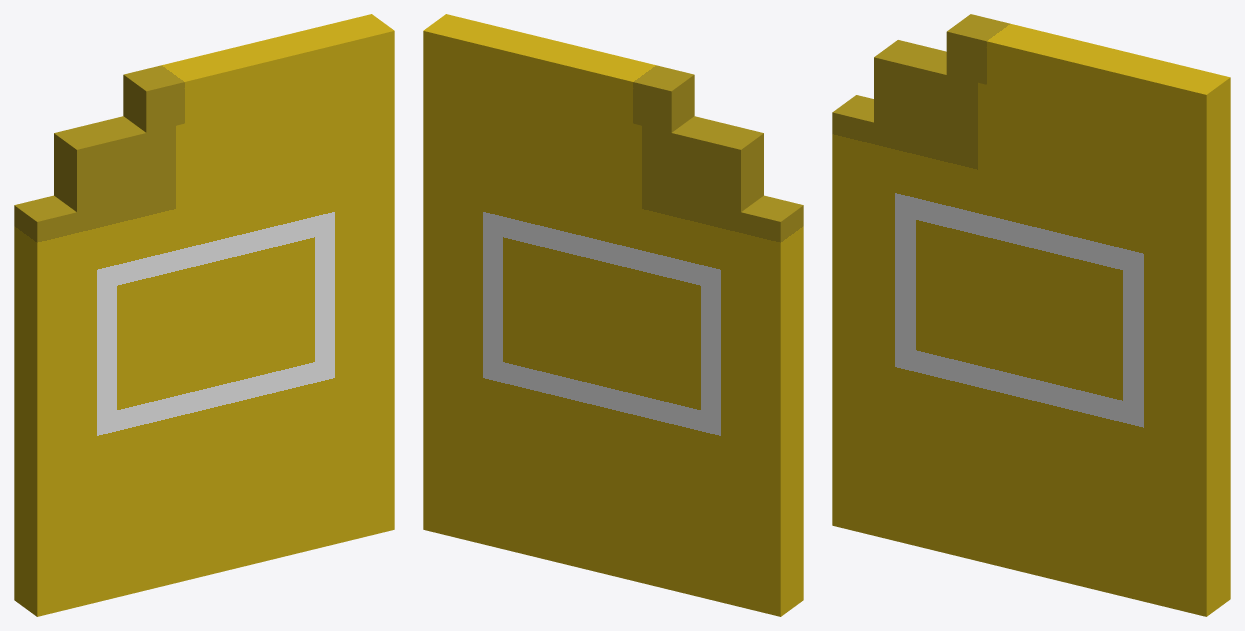
Rendered from PresentationModel.fbx.
3 renders of one model, left to right at view 1: azimuth 30°, elevation 25°; view 2: azimuth 150°, elevation 25°; view 3: azimuth 330°, elevation 25°, orthographic. The views are drawn at different scales.
Visible parts, largest first — view 1: mesh; view 2: mesh; view 3: mesh.
Boxes of the visible parts, box(x1,y1,x2,y2) form: mesh: box(14, 14, 394, 616); mesh: box(423, 14, 803, 616); mesh: box(832, 14, 1230, 616).
Bounding box in the file's own units: 112 × 150 × 12.5.
Materials: 1 (1 with a texture image).
